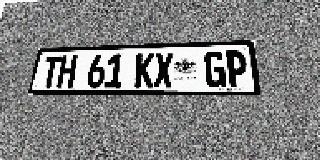1: (104, 54, 124, 88)
6: (86, 54, 107, 88)
G: (204, 51, 226, 87)
H: (56, 55, 78, 88)
K: (134, 53, 154, 88)
P: (225, 50, 248, 87)
T: (40, 56, 62, 88)
X: (154, 52, 173, 88)
